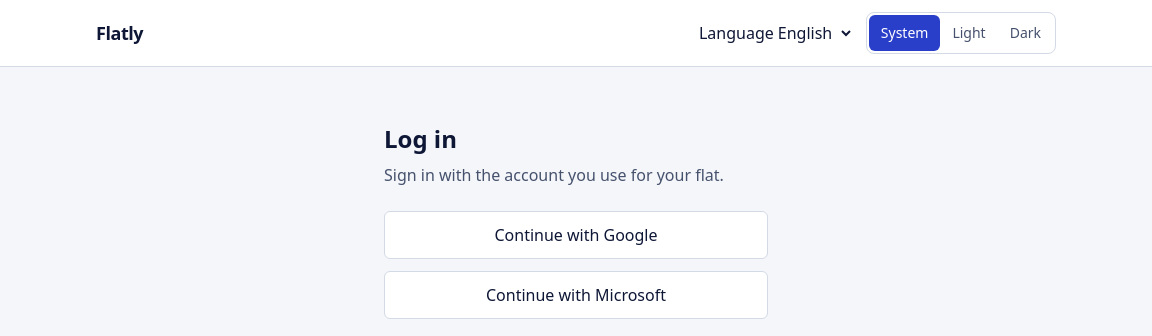
Test: language switch › changes visible copy when the user picks another language
Expected: the heading "Log in" is shown, [384,122,457,155]
Select "Español" in the dropdown labelled "Language" at (814, 33), box [774,21,854,45]
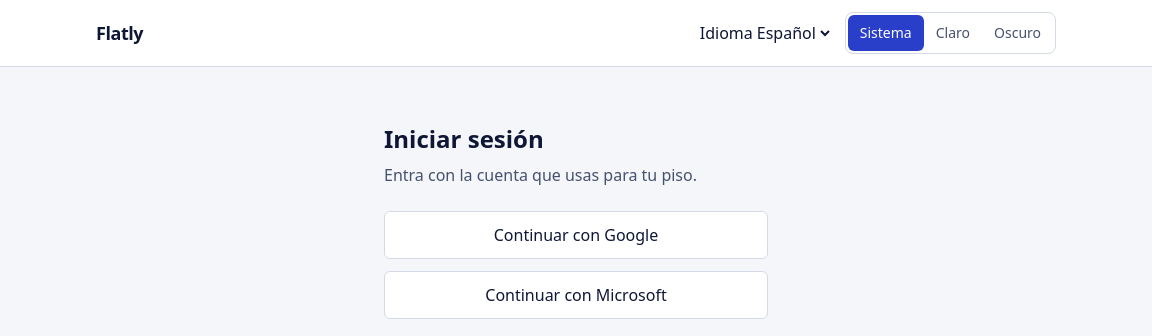
Expected: the heading "Iniciar sesión" is shown, [384,122,544,155]
